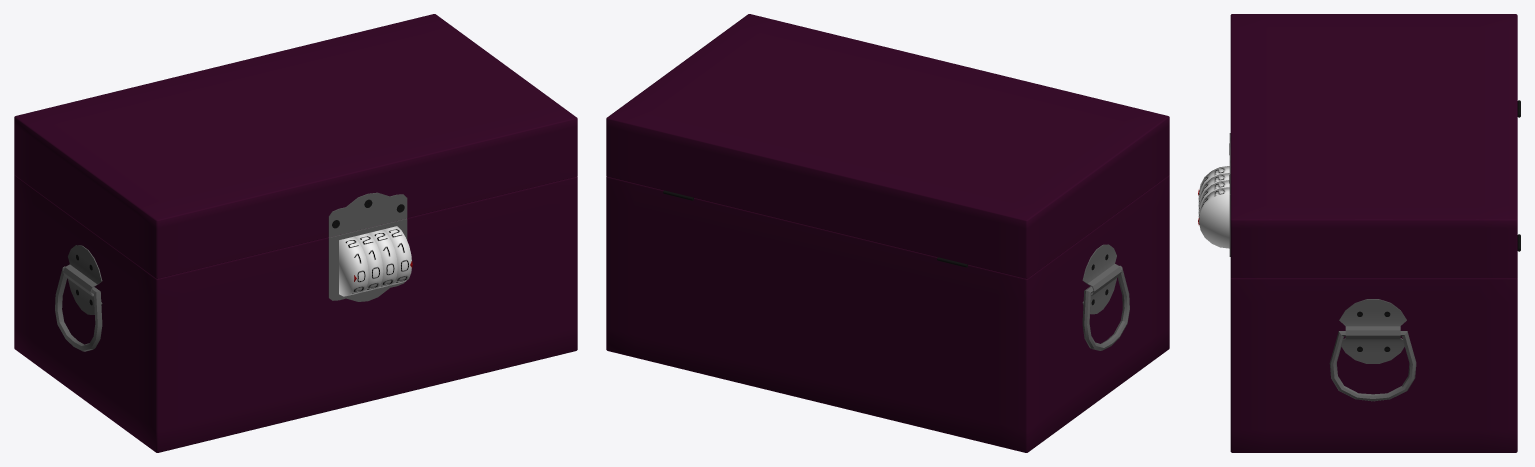
The model's file is Chest2.fbx.
3 views of the same model, side by side, from view 1: azimuth 30°, elevation 25°; view 2: azimuth 150°, elevation 25°; view 3: azimuth 270°, elevation 25° (orthographic).
Visible parts, largest first — view 1: LowerChest, UpperChest, Lock1, Lock2, Lock3, Lock4; view 2: LowerChest, UpperChest; view 3: UpperChest, LowerChest, Lock4.
Part boxes in pixels (left/top/right/bottom): LowerChest: left=14, top=175, right=577, bottom=452; UpperChest: left=14, top=14, right=577, bottom=278; Lock1: left=339, top=236, right=368, bottom=296; Lock2: left=354, top=233, right=383, bottom=291; Lock3: left=368, top=229, right=397, bottom=288; Lock4: left=383, top=226, right=411, bottom=285; LowerChest: left=606, top=175, right=1169, bottom=452; UpperChest: left=606, top=14, right=1169, bottom=278; UpperChest: left=1229, top=14, right=1517, bottom=278; LowerChest: left=1229, top=100, right=1520, bottom=452; Lock4: left=1198, top=187, right=1229, bottom=248.
Size of the model in its own units: 122 by 60.79 by 76.13.
